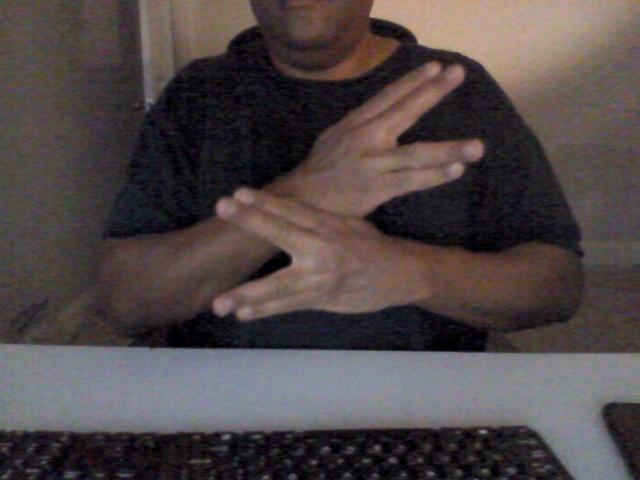world: (206, 47, 489, 330)
